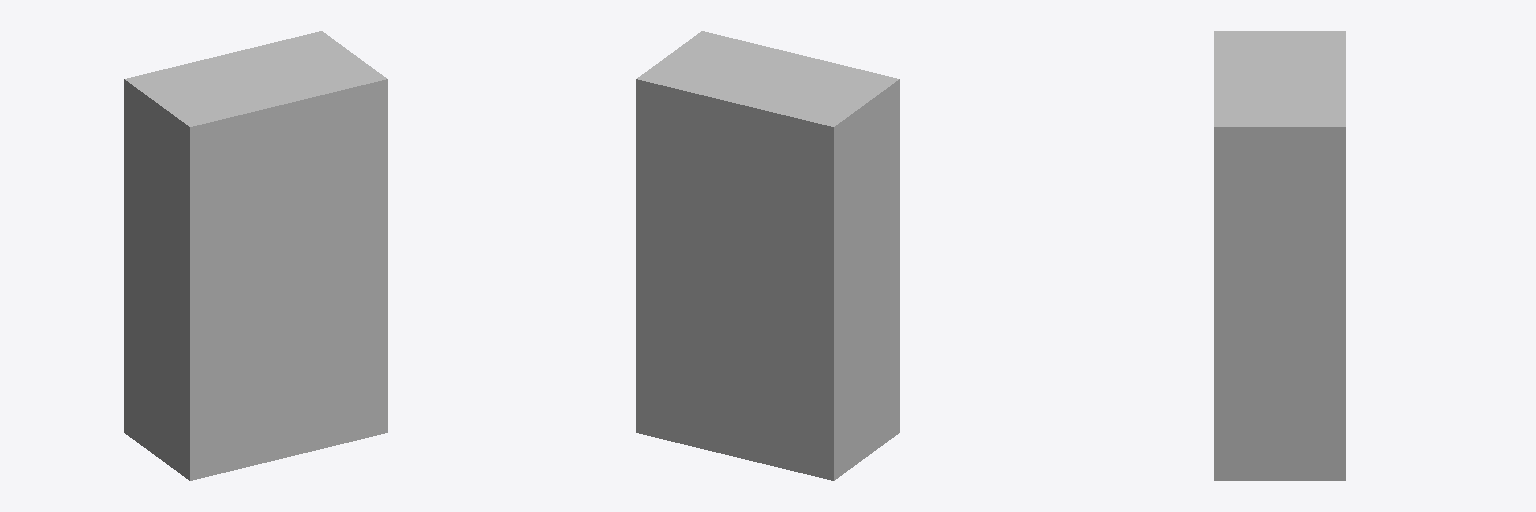
The model's file is ResamplingTest.obj.
3 views of the same model, side by side, from view 1: azimuth 30°, elevation 25°; view 2: azimuth 150°, elevation 25°; view 3: azimuth 270°, elevation 25° (orthographic).
Parts seen in each view (by area): view 1: Cube; view 2: Cube; view 3: Cube.
Part boxes in pixels (x1,y1,x2,y2): Cube: (124,31,387,480); Cube: (636,31,899,480); Cube: (1214,31,1345,480).
Size of the model in its own units: 15.81 by 27.04 by 9.12.